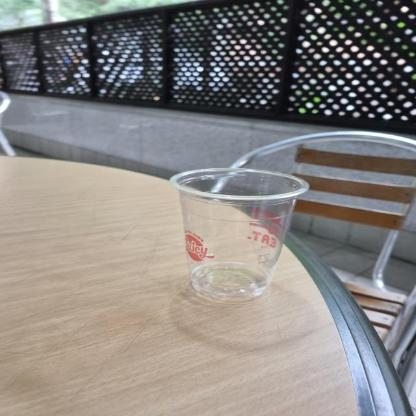Plastic Cup: (166, 164, 310, 306)
